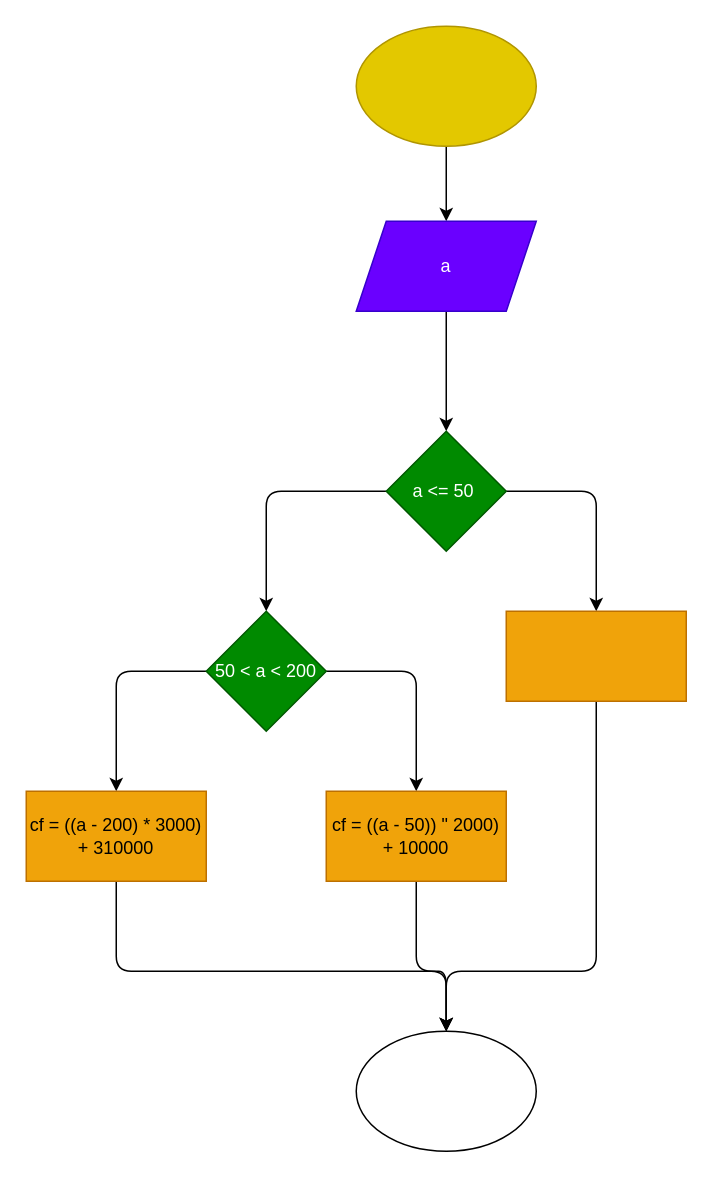
The diagram is 713 pixels wide and 1178 high, and some of its shapes have lost their labels. Here are the shapes that lost their labels. From the top down, the box of each, then its label:
(355, 25, 536, 146): INICIO
(505, 610, 686, 701): cf = 1000
(355, 1030, 536, 1151): FIN
